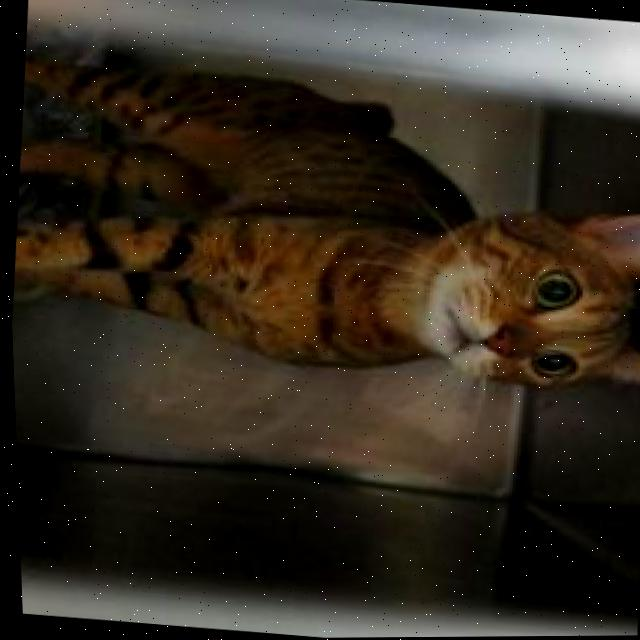Bengal: (1, 38, 640, 419)
